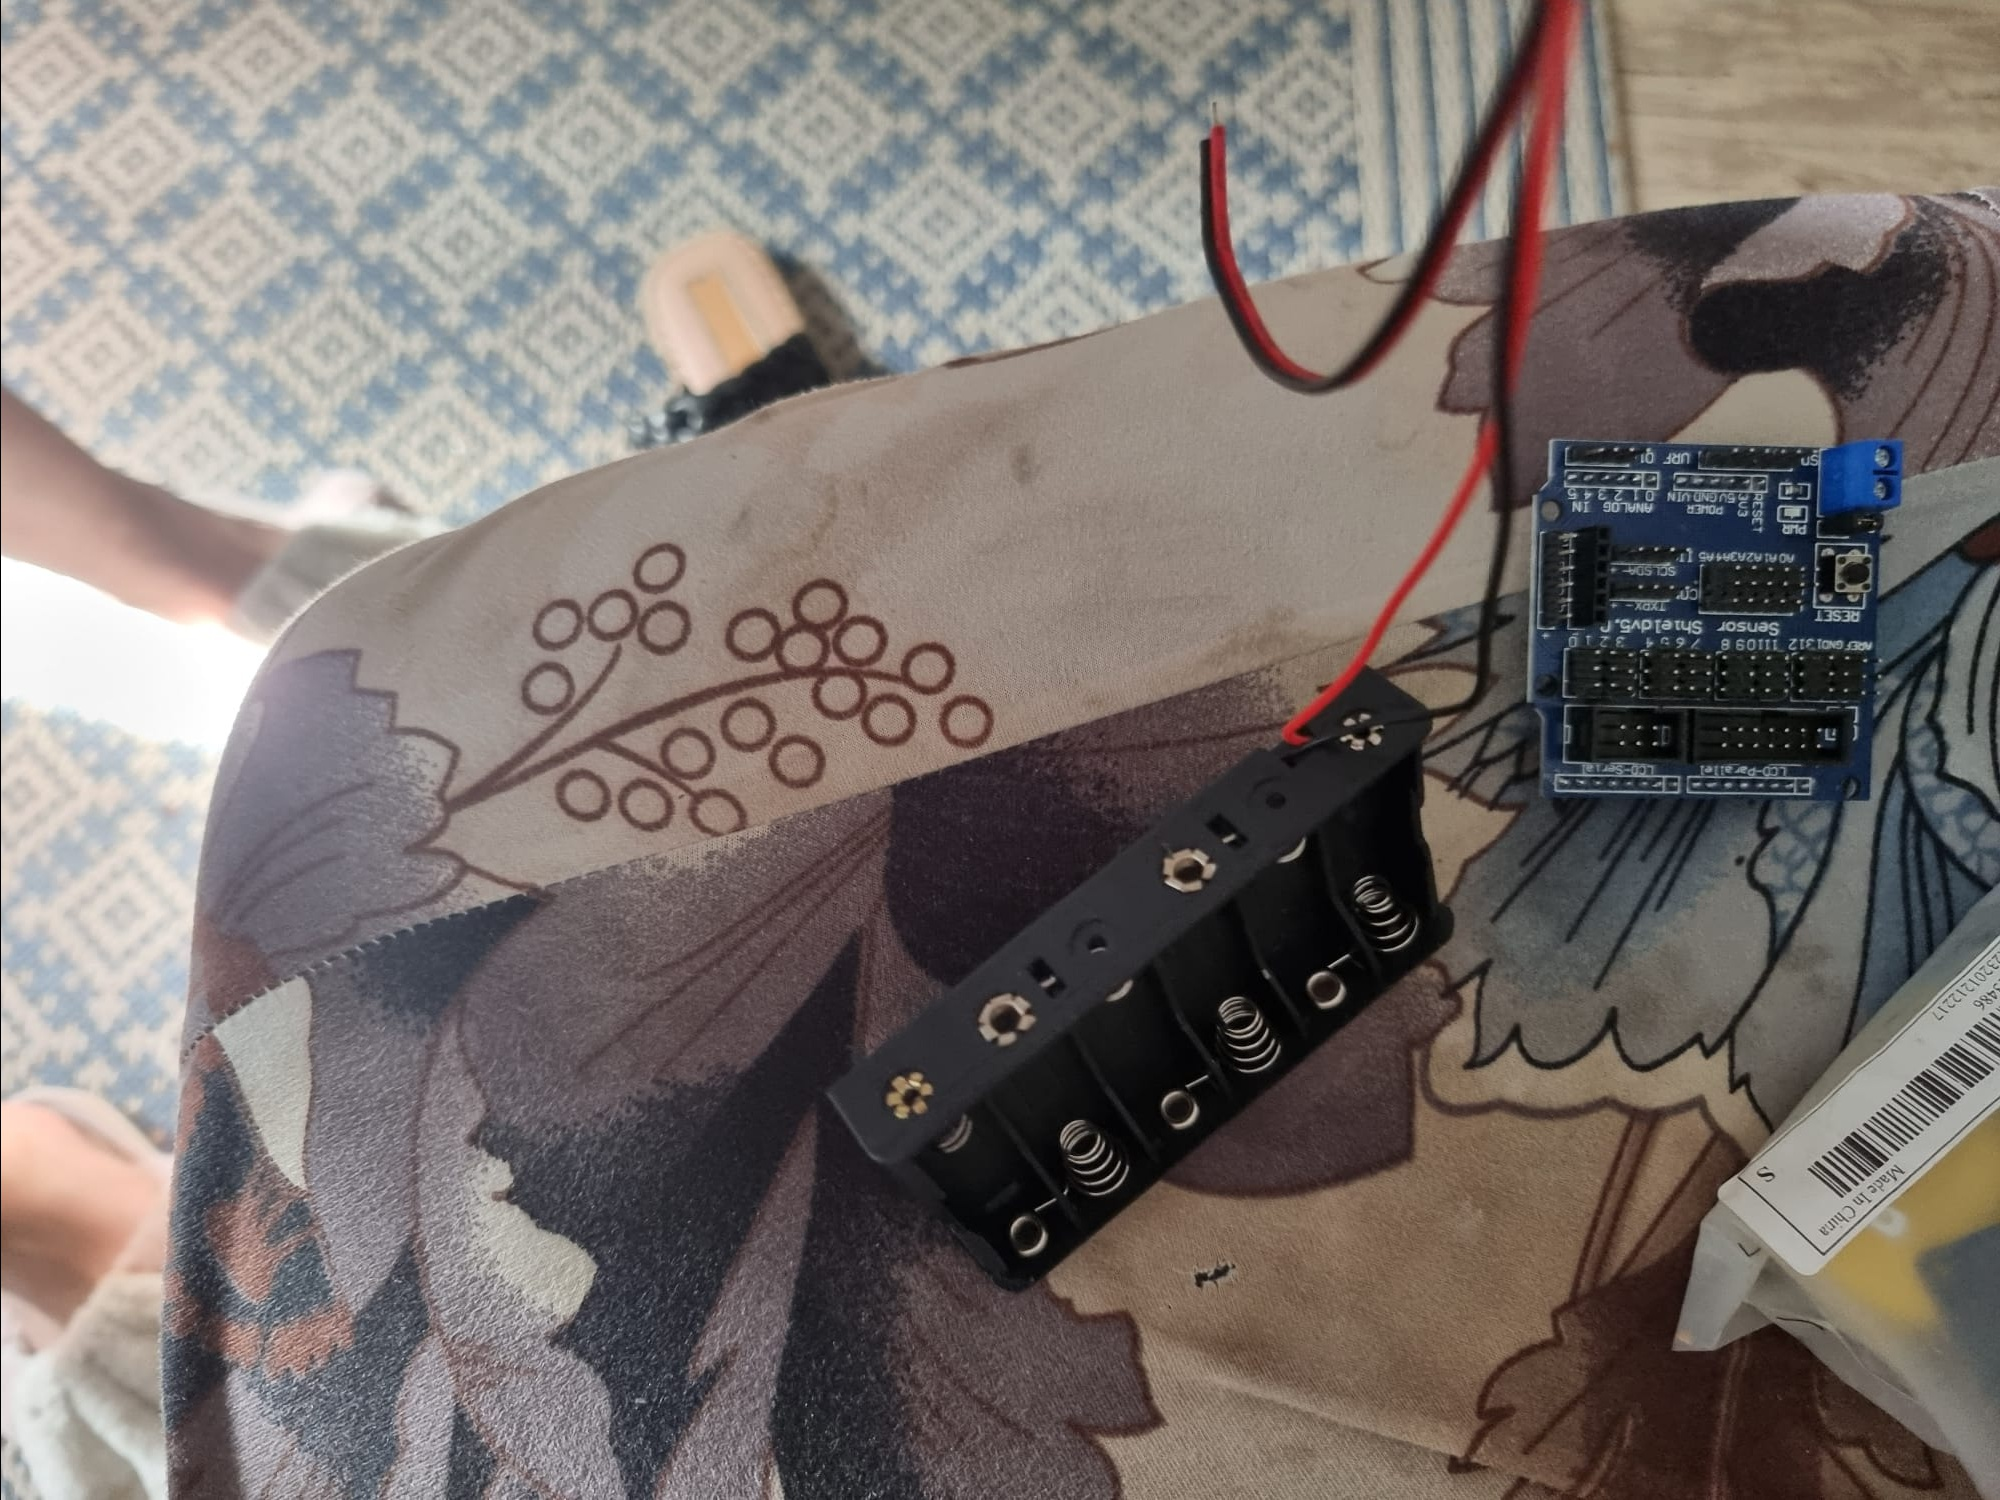5V EXPANSION: (1515, 425, 1915, 800)
BATTERY BOX: (798, 704, 1439, 1295)
